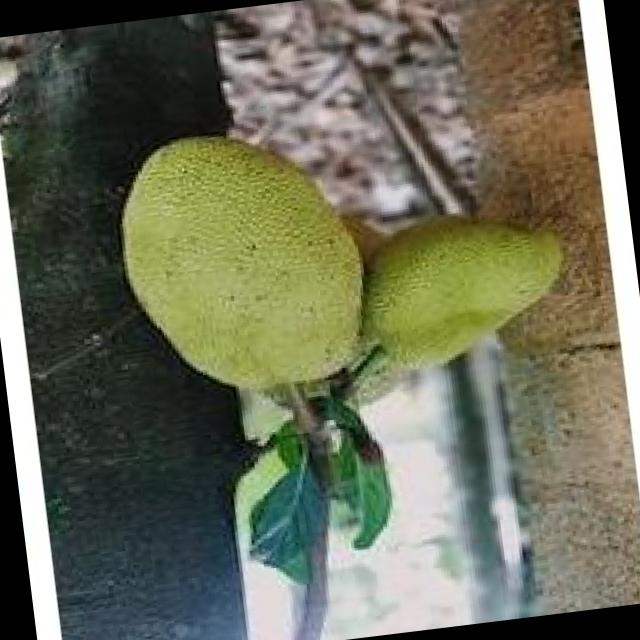Fruit: (92, 90, 404, 427)
